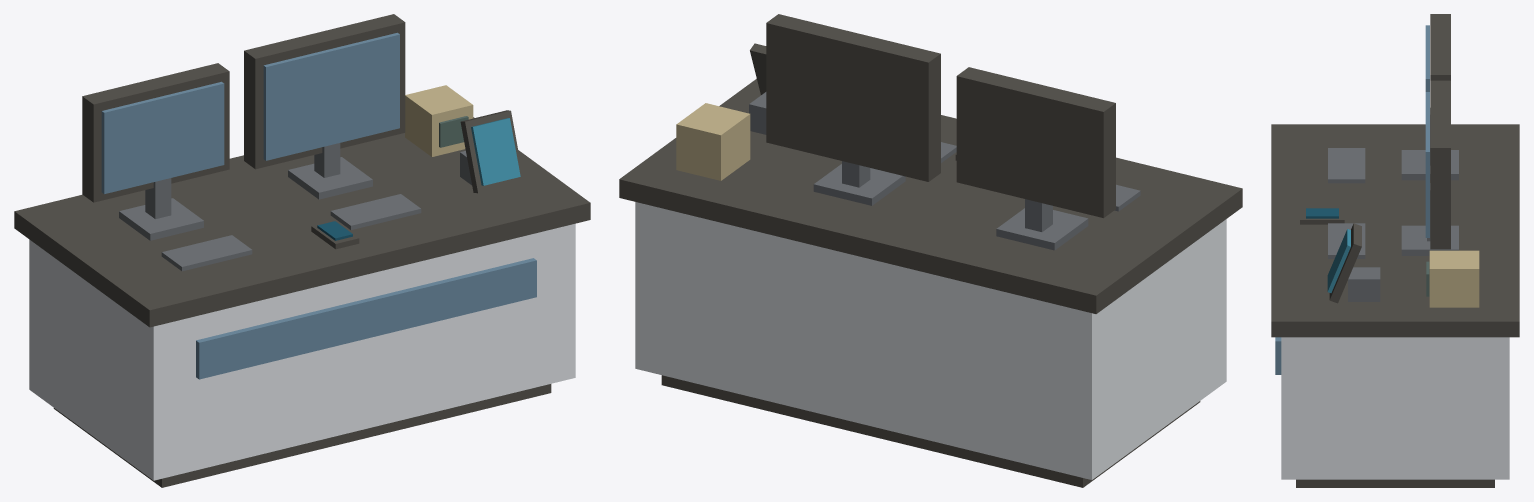
Rendered from prop-electronics-display.glb.
3 renders of one model, left to right at view 1: azimuth 30°, elevation 25°; view 2: azimuth 150°, elevation 25°; view 3: azimuth 270°, elevation 25°, orthographic. The views are drawn at different scales.
Parts seen in each view (by area): view 1: electronics_display; view 2: electronics_display; view 3: electronics_display.
Boxes of the visible parts, x1,y1,x2,y2 form: electronics_display: (14,14,590,487); electronics_display: (619,14,1242,487); electronics_display: (1271,14,1519,487).
Bounding box in the file's own units: 0.94 × 0.6825 × 0.5.
